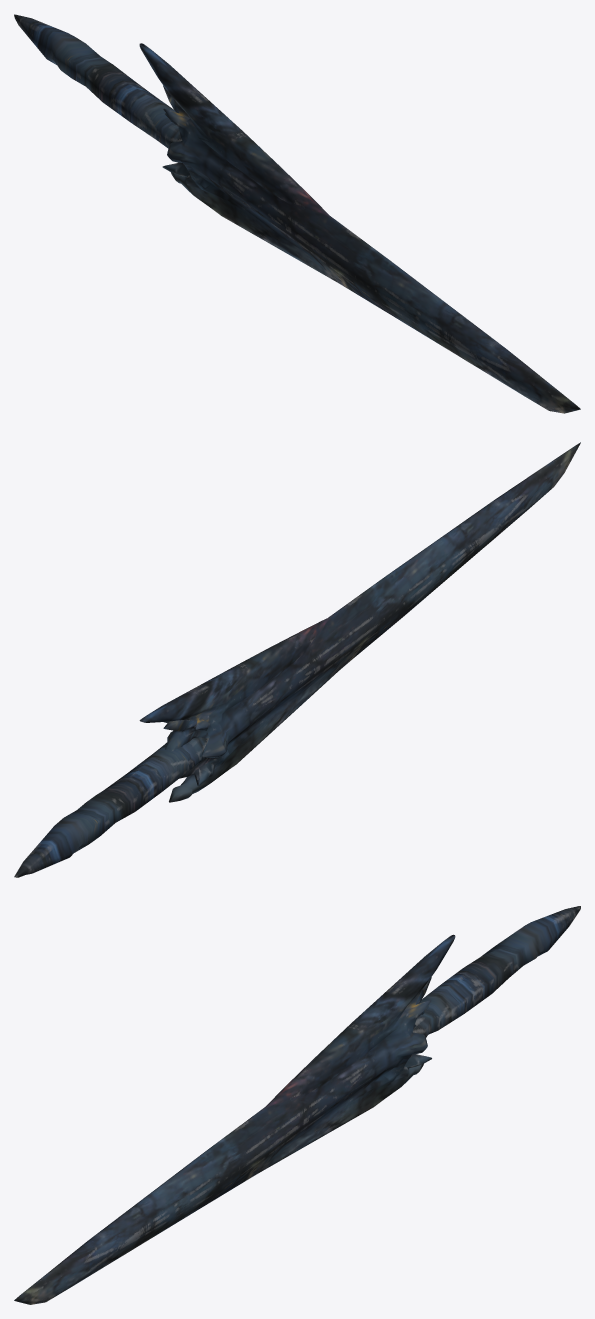
Rendered from Sword.gltf.
3 renders of one model, top to bottom at view 1: azimuth 30°, elevation 25°; view 2: azimuth 150°, elevation 25°; view 3: azimuth 330°, elevation 25°, orthographic.
Parts seen in each view (by area): view 1: Mesh_0.001; view 2: Mesh_0.001; view 3: Mesh_0.001.
Boxes of the visible parts, x1,y1,x2,y2 form: Mesh_0.001: (14,14,580,413); Mesh_0.001: (14,442,580,877); Mesh_0.001: (14,906,580,1304).
Size of the model in its own units: 0.0758 by 0.1401 by 1.28.
Materials: 1 (1 with a texture image).
